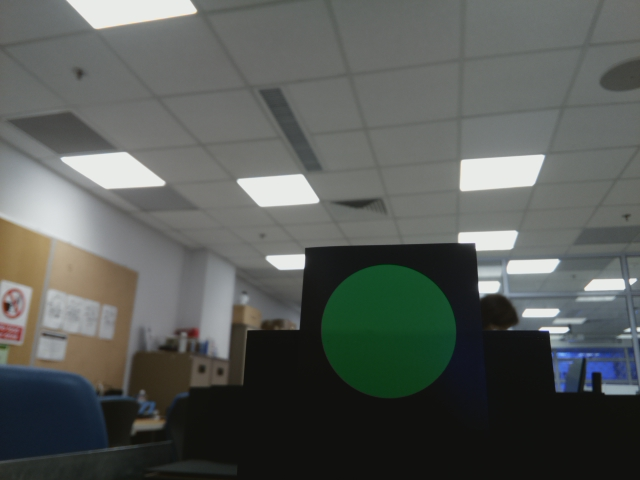go: (315, 258, 472, 419)
